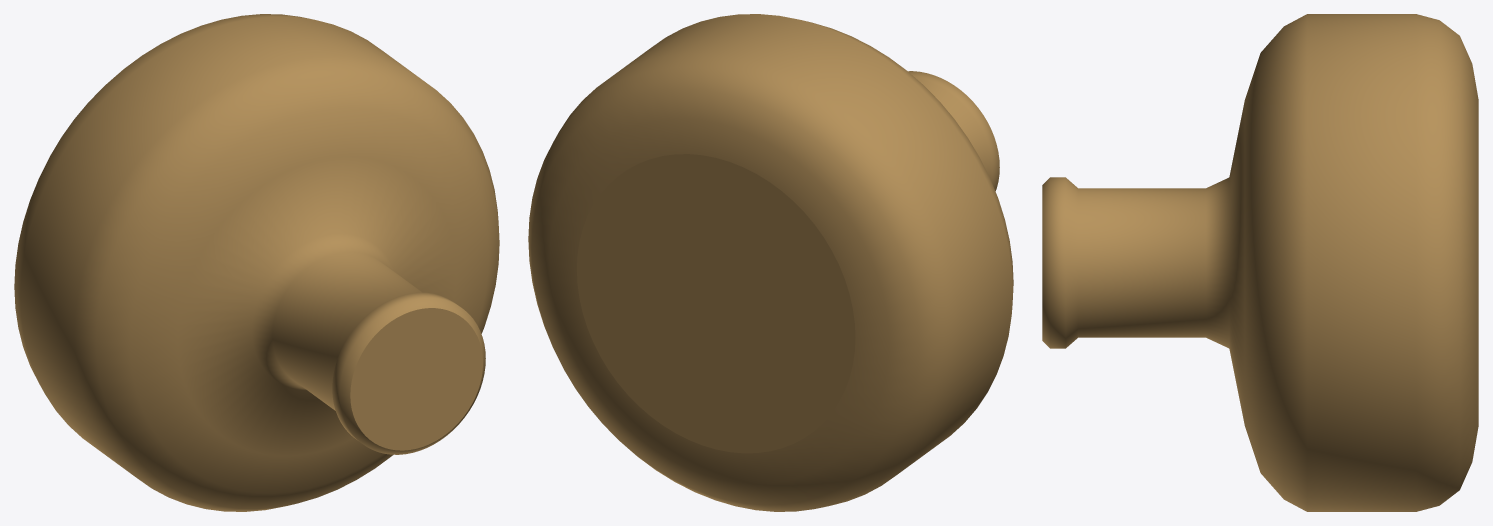
File: HANDLE_KNOB_ROUND_BRASS.glb
3 views of the same model, side by side, from view 1: azimuth 30°, elevation 25°; view 2: azimuth 150°, elevation 25°; view 3: azimuth 270°, elevation 25° (orthographic).
Visible parts, largest first — view 1: HANDLE_KNOB_ROUND_BRASS; view 2: HANDLE_KNOB_ROUND_BRASS; view 3: HANDLE_KNOB_ROUND_BRASS.
Part boxes in pixels (x1,y1,x2,y2): HANDLE_KNOB_ROUND_BRASS: [14, 14, 499, 511]; HANDLE_KNOB_ROUND_BRASS: [528, 14, 1013, 511]; HANDLE_KNOB_ROUND_BRASS: [1042, 14, 1478, 511].
Size of the model in its own units: 0.032 by 0.032 by 0.028.
